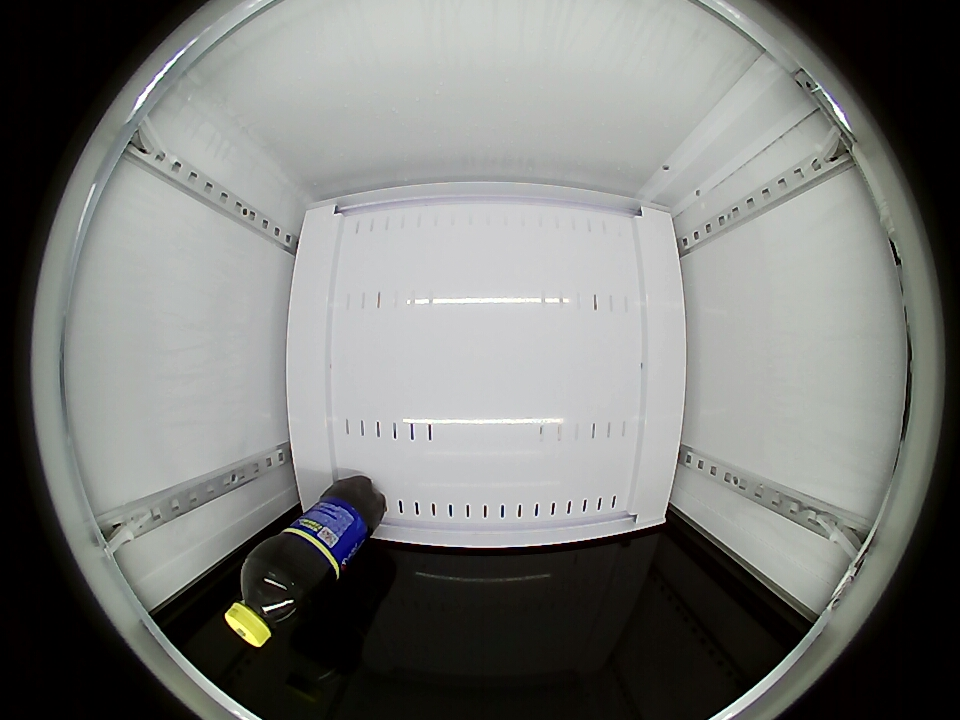baishikele: (224, 554, 316, 647)
